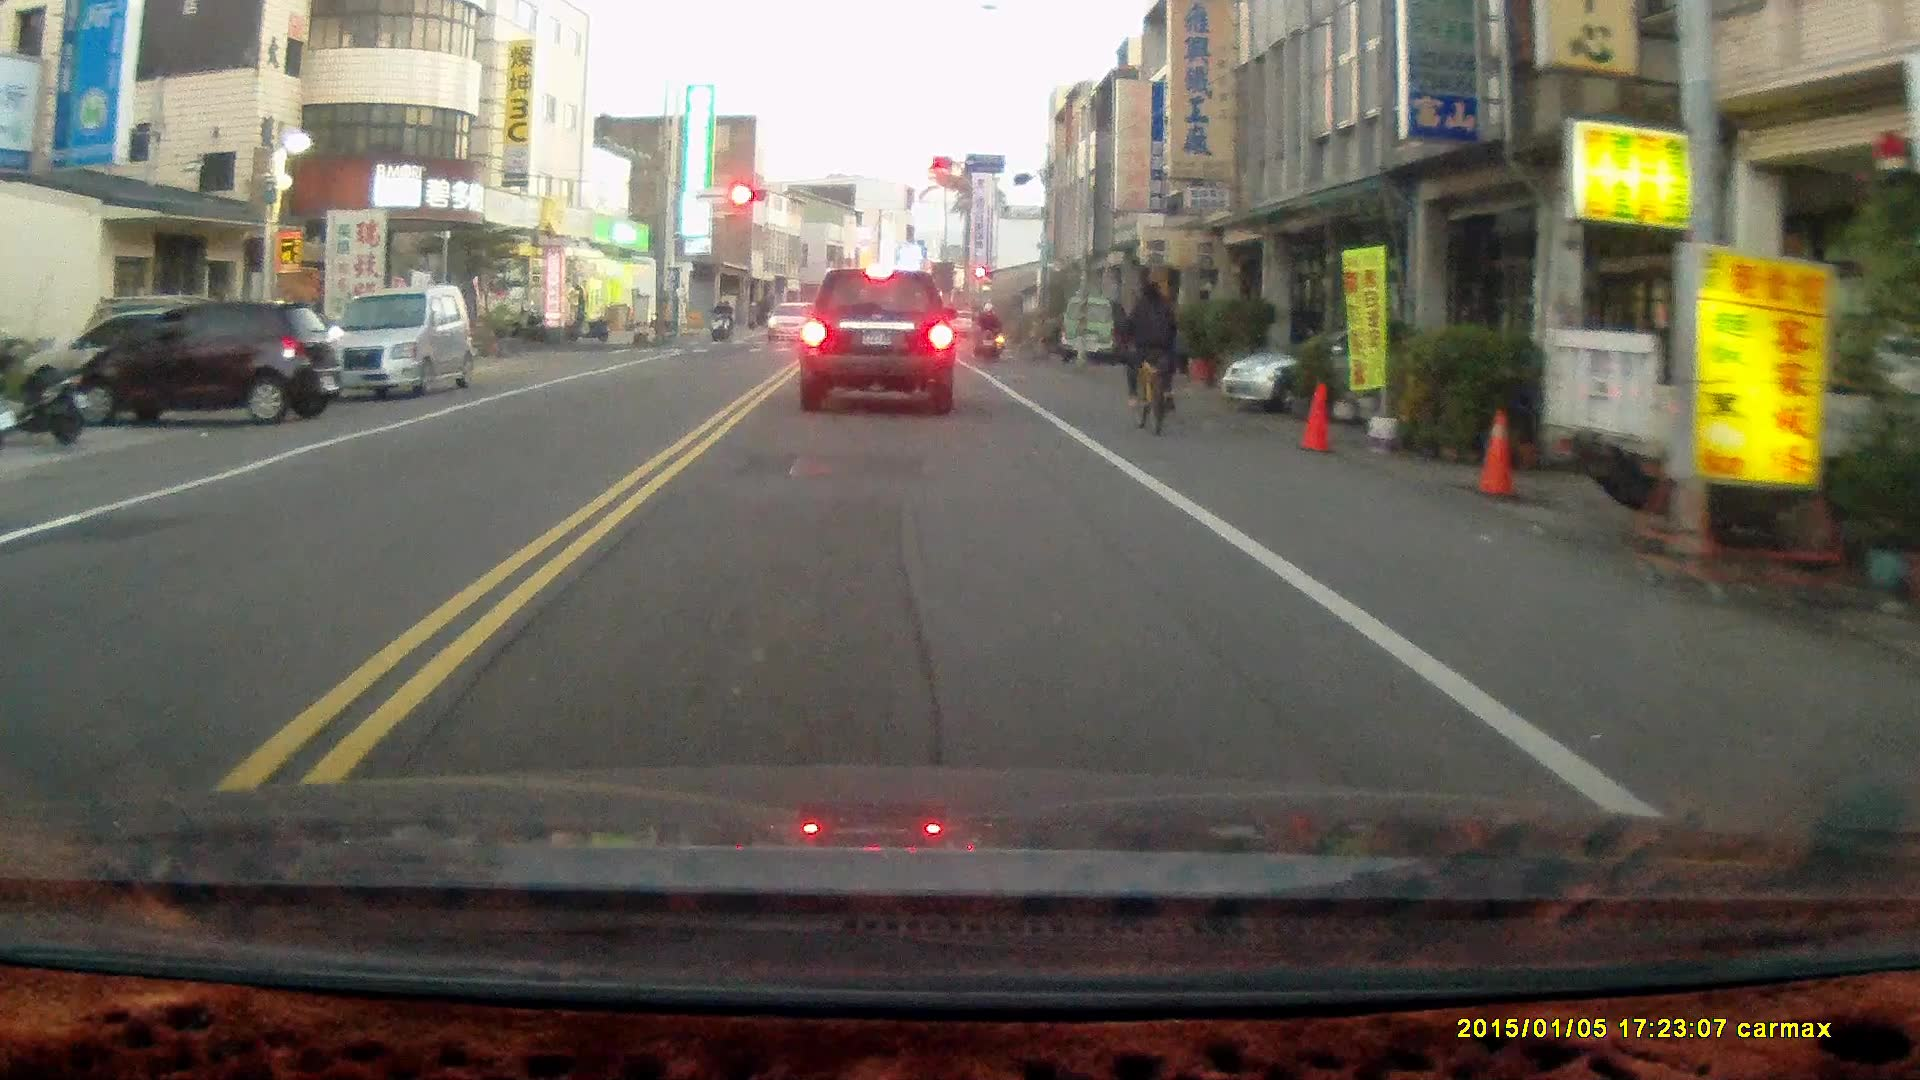rider: (1123, 277, 1177, 437), (970, 298, 1002, 362), (706, 296, 729, 342)
vehicle: (63, 297, 345, 431), (1219, 323, 1484, 418), (796, 266, 958, 417), (315, 284, 474, 404), (1060, 296, 1124, 363)
